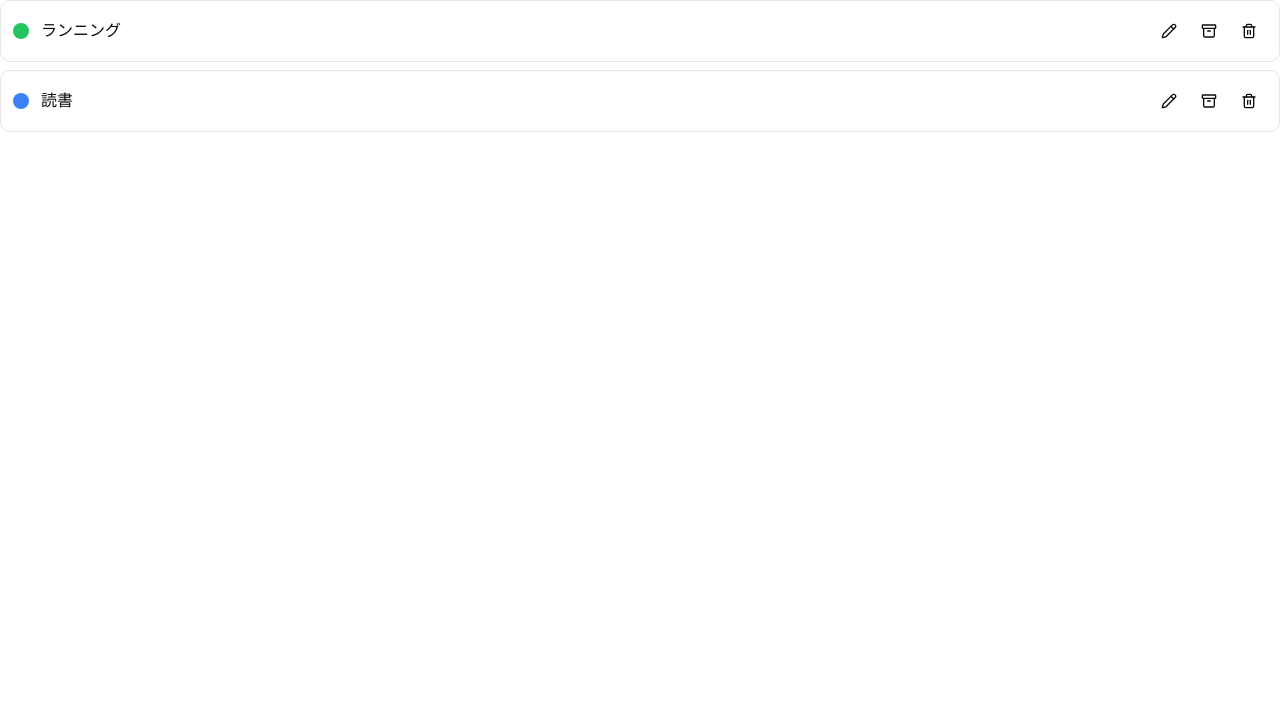
it: HabitList › 削除ボタンをクリックすると確認ダイアログが表示される
Click the button named "削除" in the row of "ランニング": (1249, 31) [1231,13,1267,49]
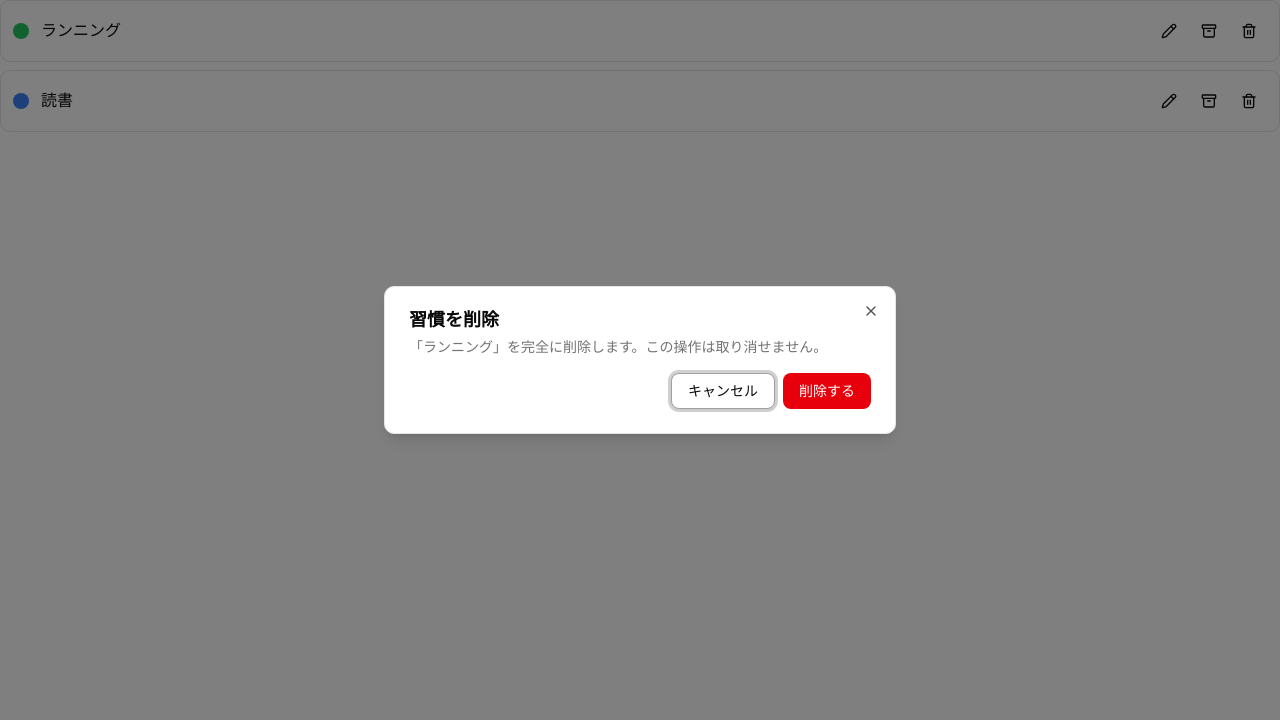
Now the dialog is shown, box [384,286,896,434]
